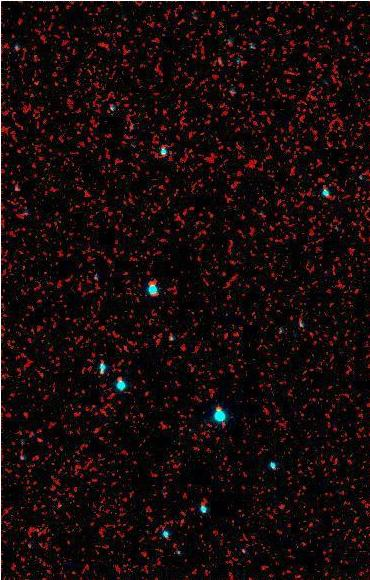star: (21, 427, 51, 457)
